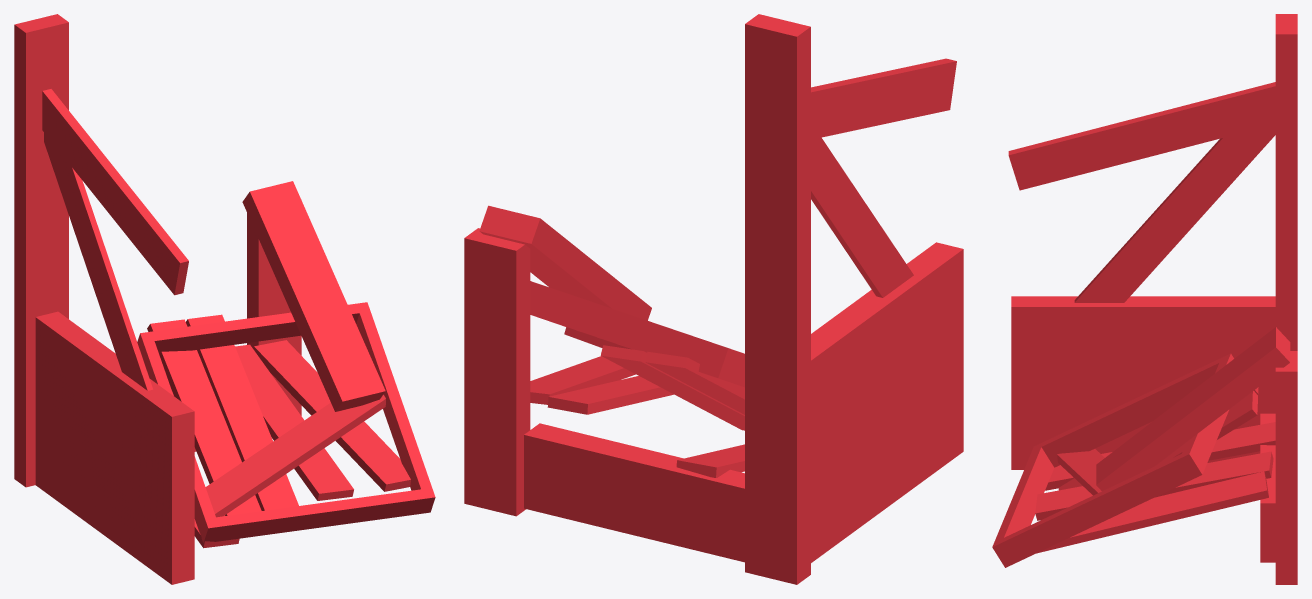
File: Débris2.fbx
The picture shows the model from 3 angles, left to right: view 1: azimuth 30°, elevation 25°; view 2: azimuth 150°, elevation 25°; view 3: azimuth 270°, elevation 25°; orthographic projection. The views are drawn at different scales.
Visible parts, largest first — view 1: Cube.573, Cube.576, Cube.578, Cube.579, Cube.575, Cube.571, Cube.574, Cube.569, Cube.567, Cube.570, Cube.568, Cube.577; view 2: Cube.576, Cube.573, Cube.572, Cube.577, Cube.575, Cube.578, Cube.574, Cube.579, Cube.568, Cube.569, Cube.570, Cube.567 (+1 smaller); view 3: Cube.573, Cube.578, Cube.575, Cube.574, Cube.579, Cube.576, Cube.577, Cube.570, Cube.568, Cube.566, Cube.572, Cube.571 (+1 smaller).
Boxes of the visible parts, x1,y1,x2,y2 form: Cube.573: (35, 311, 194, 584); Cube.576: (14, 14, 68, 487); Cube.578: (137, 302, 435, 543); Cube.579: (242, 181, 385, 411); Cube.575: (42, 89, 188, 295); Cube.571: (205, 394, 385, 517); Cube.574: (44, 133, 152, 390); Cube.569: (186, 314, 298, 510); Cube.567: (147, 319, 261, 515); Cube.570: (253, 340, 410, 491); Cube.568: (235, 344, 353, 500); Cube.577: (247, 213, 301, 415); Cube.576: (745, 14, 810, 584); Cube.573: (811, 242, 963, 562); Cube.572: (524, 423, 744, 562); Cube.577: (464, 228, 530, 516); Cube.575: (811, 58, 956, 139); Cube.578: (530, 281, 744, 387); Cube.574: (811, 137, 913, 297); Cube.579: (479, 205, 651, 320); Cube.568: (547, 376, 673, 414); Cube.569: (600, 345, 744, 430); Cube.570: (530, 356, 635, 404); Cube.567: (645, 351, 744, 414); Cube.573: (1011, 296, 1275, 469); Cube.578: (992, 353, 1233, 567); Cube.575: (1008, 82, 1275, 190); Cube.574: (1074, 124, 1275, 302); Cube.579: (1096, 327, 1290, 491); Cube.576: (1275, 14, 1297, 350); Cube.577: (1275, 351, 1297, 584); Cube.570: (1037, 471, 1268, 553); Cube.568: (1035, 451, 1273, 520); Cube.566: (1045, 422, 1275, 490); Cube.572: (1260, 413, 1275, 562); Cube.571: (1057, 449, 1104, 495).
Bounding box in the file's own units: 76.98 × 112 × 70.33.
